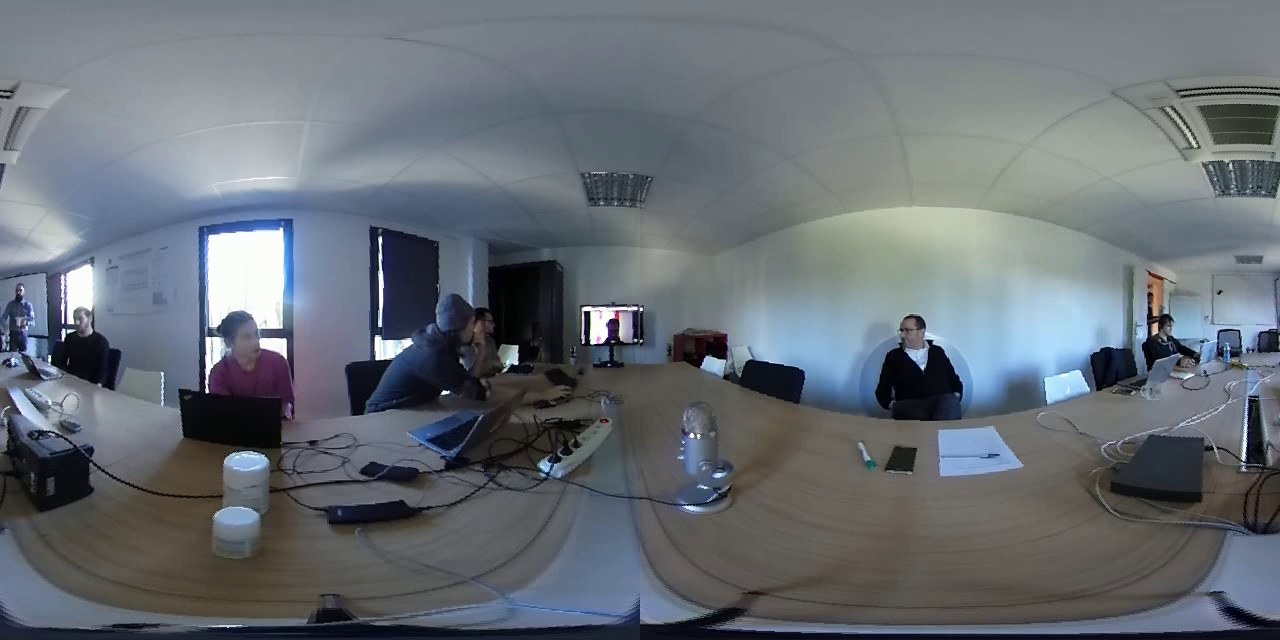person: (372, 286, 475, 435), (870, 300, 970, 424), (201, 301, 301, 407), (54, 300, 114, 389), (1, 280, 37, 351), (1145, 309, 1187, 369), (475, 304, 505, 373), (585, 307, 637, 342), (1143, 285, 1158, 304)
